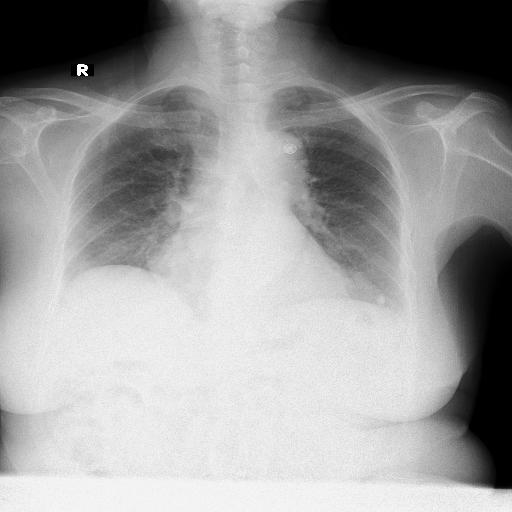Aortic enlargement: (230, 104, 282, 160)
Cardiomegaly: (43, 214, 249, 274)
Nodule-Mass: (370, 290, 382, 300)
Other lesion: (365, 290, 381, 300)
